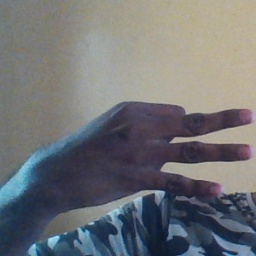K: (50, 98, 254, 206)
